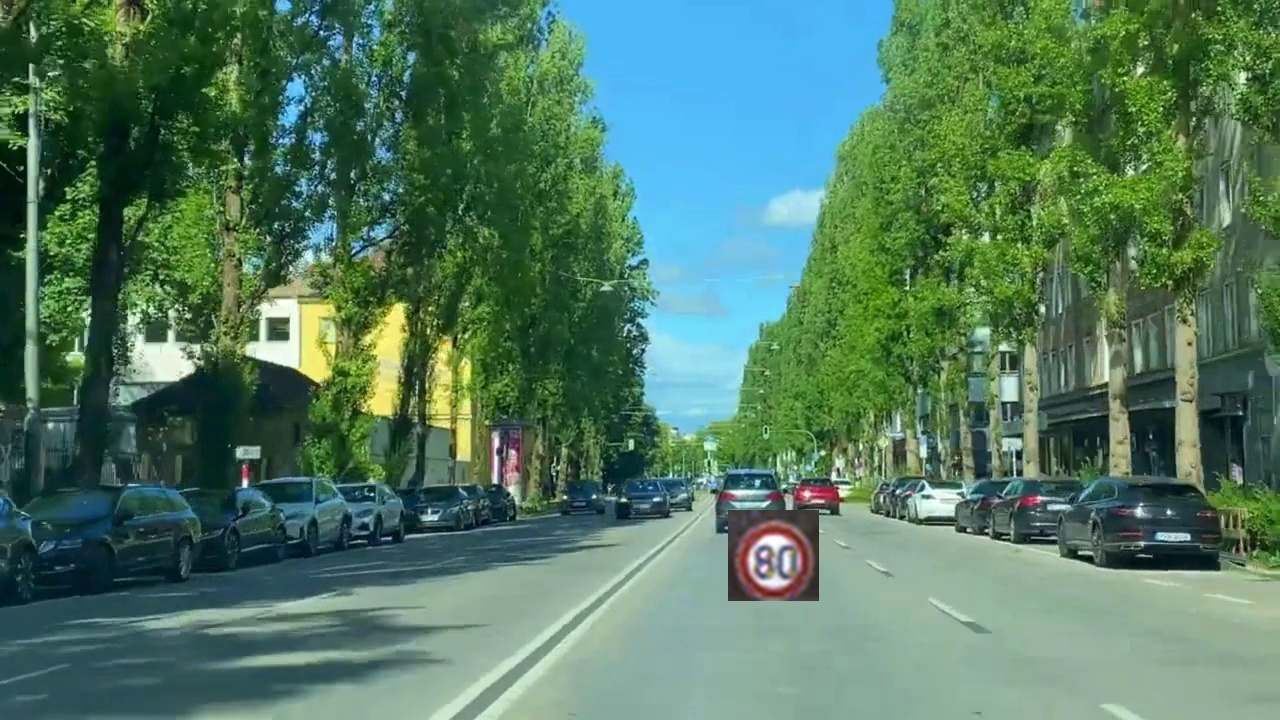Speed 80: (728, 510, 819, 601)
